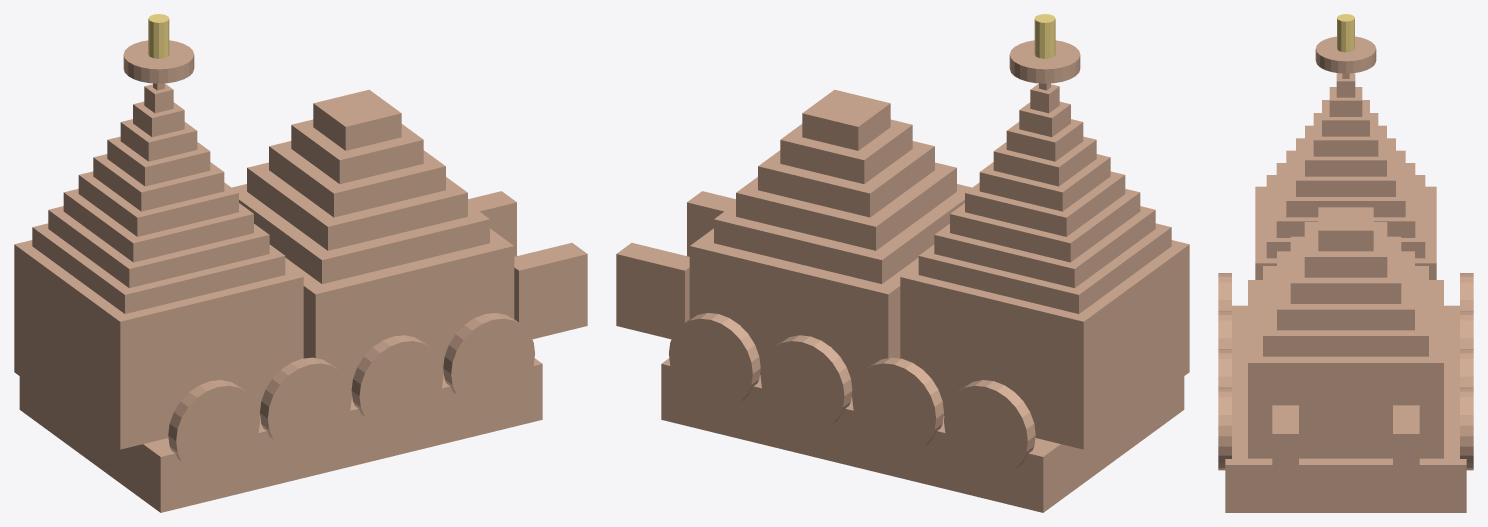
File: sun_temple_s5.glb
3 views of the same model, side by side, from view 1: azimuth 30°, elevation 25°; view 2: azimuth 150°, elevation 25°; view 3: azimuth 270°, elevation 25° (orthographic). The views are drawn at different scales.
Visible parts, largest first — view 1: Cube.007, Cube, Cube.001, Cube.002, Cube.003, Cube.008, Cylinder.003, Cylinder.001, Cylinder.002, Cylinder, Cube.004, Cube.018 (+13 smaller); view 2: Cube.007, Cube, Cube.001, Cube.002, Cube.003, Cube.008, Cylinder.007, Cylinder.005, Cylinder.006, Cylinder.004, Cube.004, Cube.019 (+13 smaller); view 3: Cube.001, Cube, Cube.002, Cube.003, Cube.004, Cube.005, Cube.010, Cube.011, Cube.006, Cube.009, Cube.018, Cube.019 (+17 smaller).
Part boxes in pixels (x1,y1,x2,y2): Cube.007: (14,240,303,449); Cube: (19,358,542,512); Cube.001: (285,228,514,396); Cube.002: (232,184,489,283); Cube.003: (247,162,467,250); Cube.008: (32,223,285,313); Cylinder.003: (443,313,534,408); Cylinder.001: (260,357,351,453); Cylinder.002: (351,335,443,431); Cylinder: (168,380,259,475); Cube.004: (269,141,445,217); Cube.018: (514,243,587,339); Cube.007: (900,240,1189,449); Cube: (661,358,1184,512); Cube.001: (689,228,918,396); Cube.002: (714,184,971,283); Cube.003: (736,162,956,250); Cube.008: (918,223,1171,313); Cylinder.007: (669,313,760,408); Cylinder.005: (852,357,943,453); Cylinder.006: (760,335,852,431); Cylinder.004: (944,380,1035,475); Cube.004: (758,141,934,217); Cube.019: (616,243,689,339); Cube.001: (1248,280,1443,458); Cube: (1225,305,1466,512); Cube.002: (1263,266,1428,356); Cube.003: (1277,251,1414,330); Cube.004: (1290,236,1401,303); Cube.005: (1304,222,1387,277); Cube.010: (1286,150,1405,217); Cube.011: (1296,138,1395,196); Cube.006: (1318,207,1373,251); Cube.009: (1276,163,1415,237); Cube.018: (1272,405,1298,495); Cube.019: (1393,405,1419,495).
Size of the model in its own units: 6.25 by 5.33 by 3.38.
